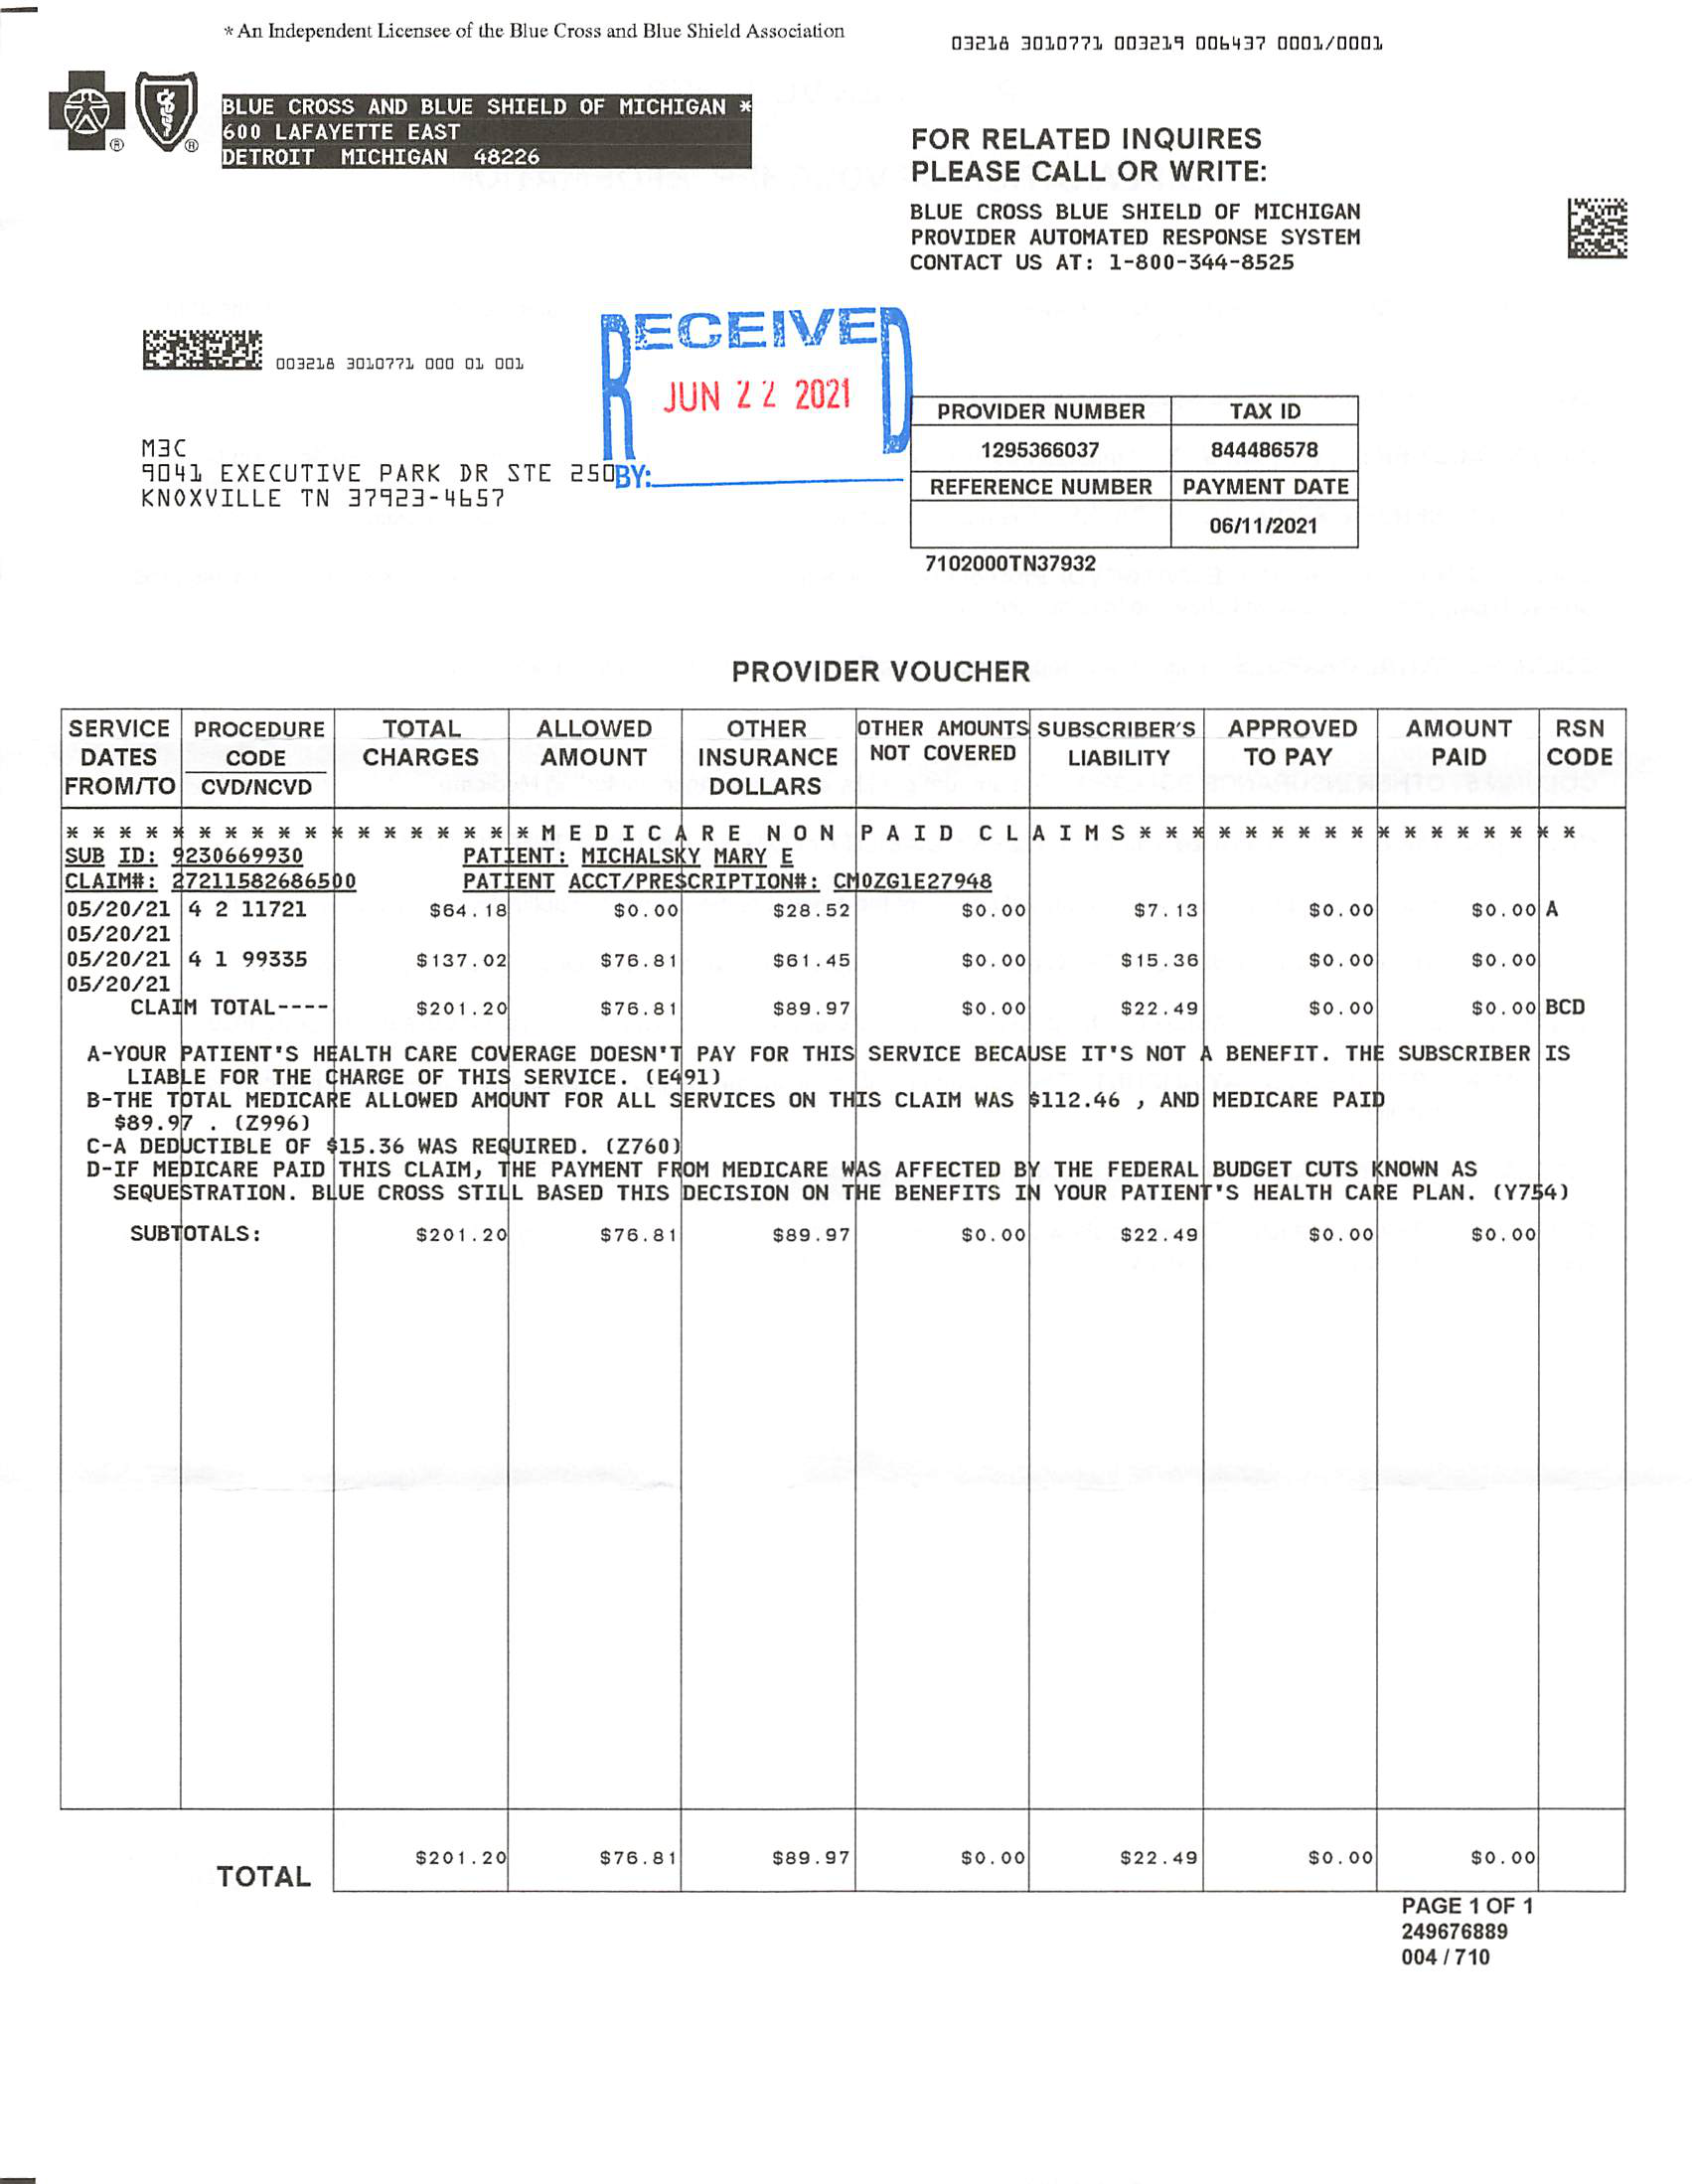table: (30, 695, 1662, 1893), (898, 390, 1371, 551)
